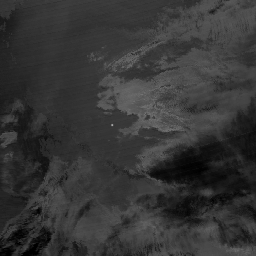Target: (110, 123, 115, 127)
